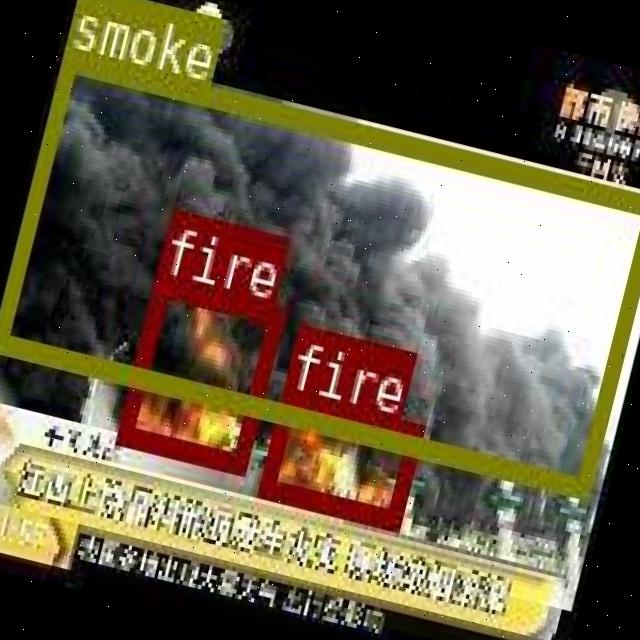fire: (115, 272, 283, 472), (256, 387, 422, 528)
smoke: (0, 45, 640, 492)
